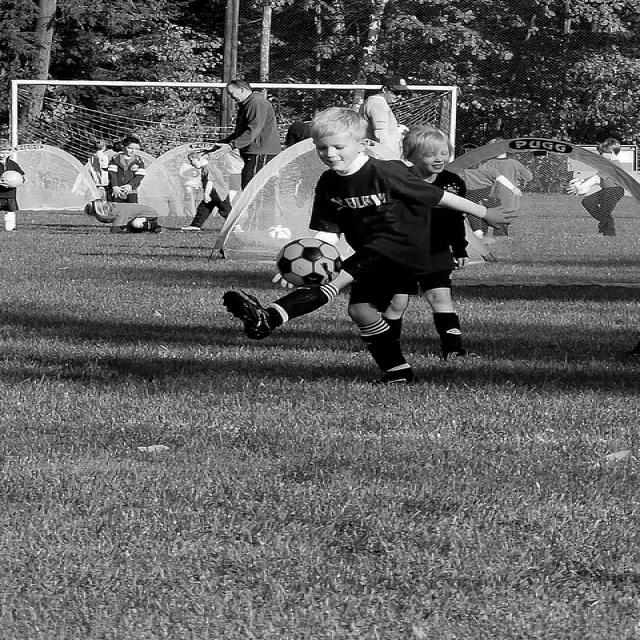monkey: (220, 108, 527, 380), (380, 122, 482, 360), (210, 81, 282, 191), (566, 139, 625, 237), (483, 137, 533, 235), (181, 148, 233, 231), (361, 72, 410, 154), (86, 198, 162, 234), (108, 137, 147, 203), (0, 138, 25, 231), (87, 138, 112, 202), (286, 120, 312, 150)
